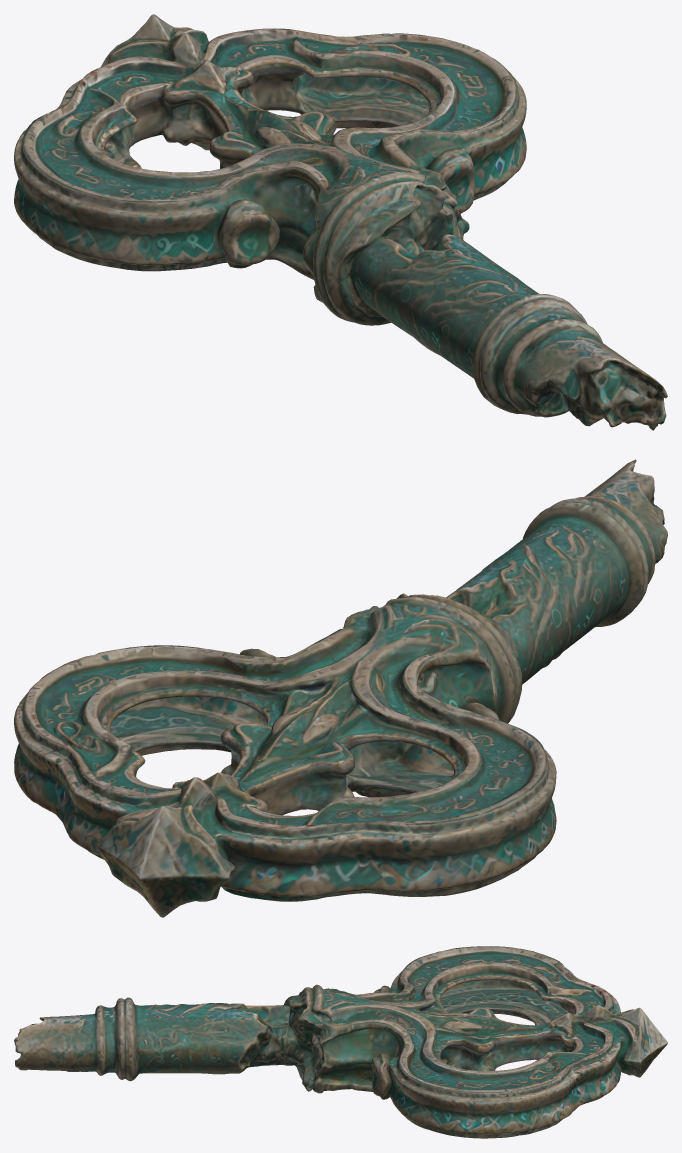
The model's file is KeyPiece.fbx.
3 renders of one model, top to bottom at view 1: azimuth 30°, elevation 25°; view 2: azimuth 150°, elevation 25°; view 3: azimuth 270°, elevation 25°, orthographic. The views are drawn at different scales.
Parts seen in each view (by area): view 1: texture_mapping; view 2: texture_mapping; view 3: texture_mapping.
Part boxes in pixels (x1=…): texture_mapping: x1=14, y1=14, x2=667, y2=430; texture_mapping: x1=14, y1=459, x2=667, y2=917; texture_mapping: x1=14, y1=946, x2=667, y2=1138.
Size of the model in its own units: 0.5504 by 0.9988 by 0.1606.
1 material, 1 textured.
